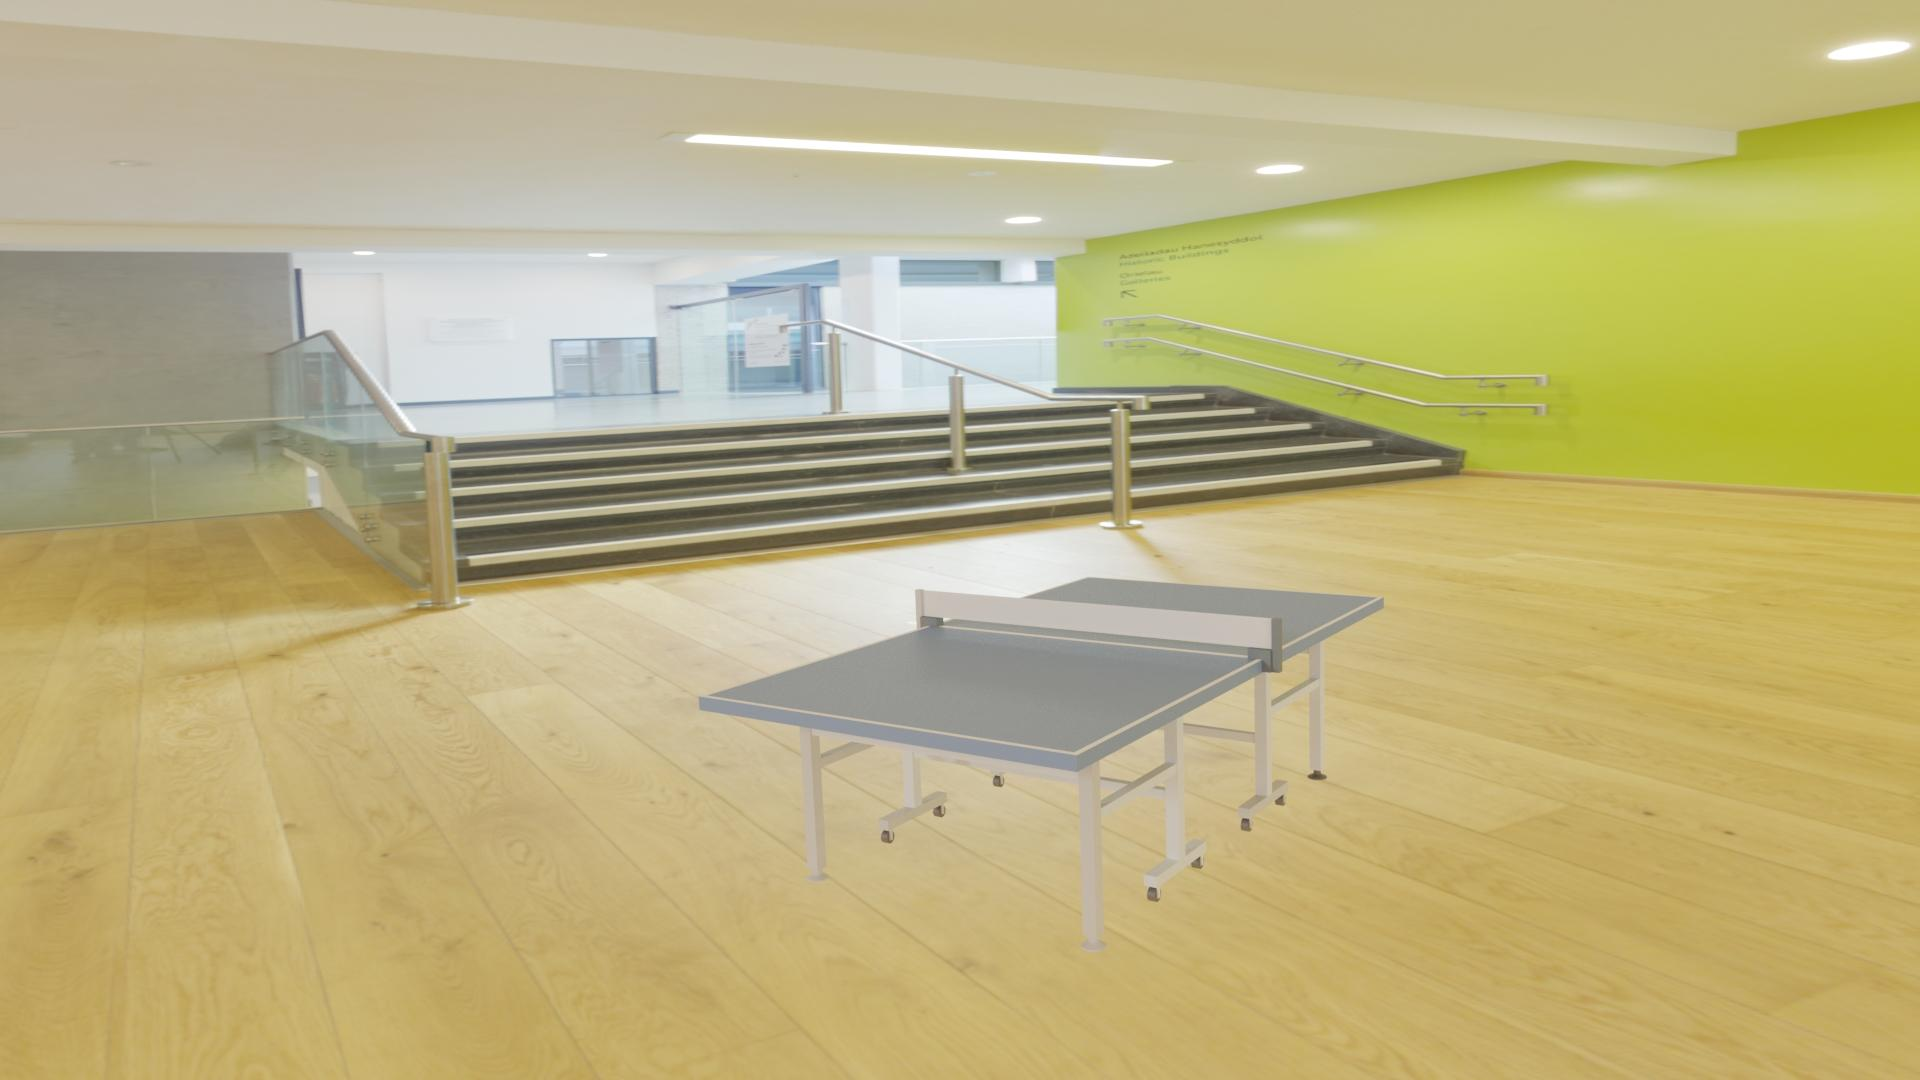table: (707, 578, 1378, 753)
